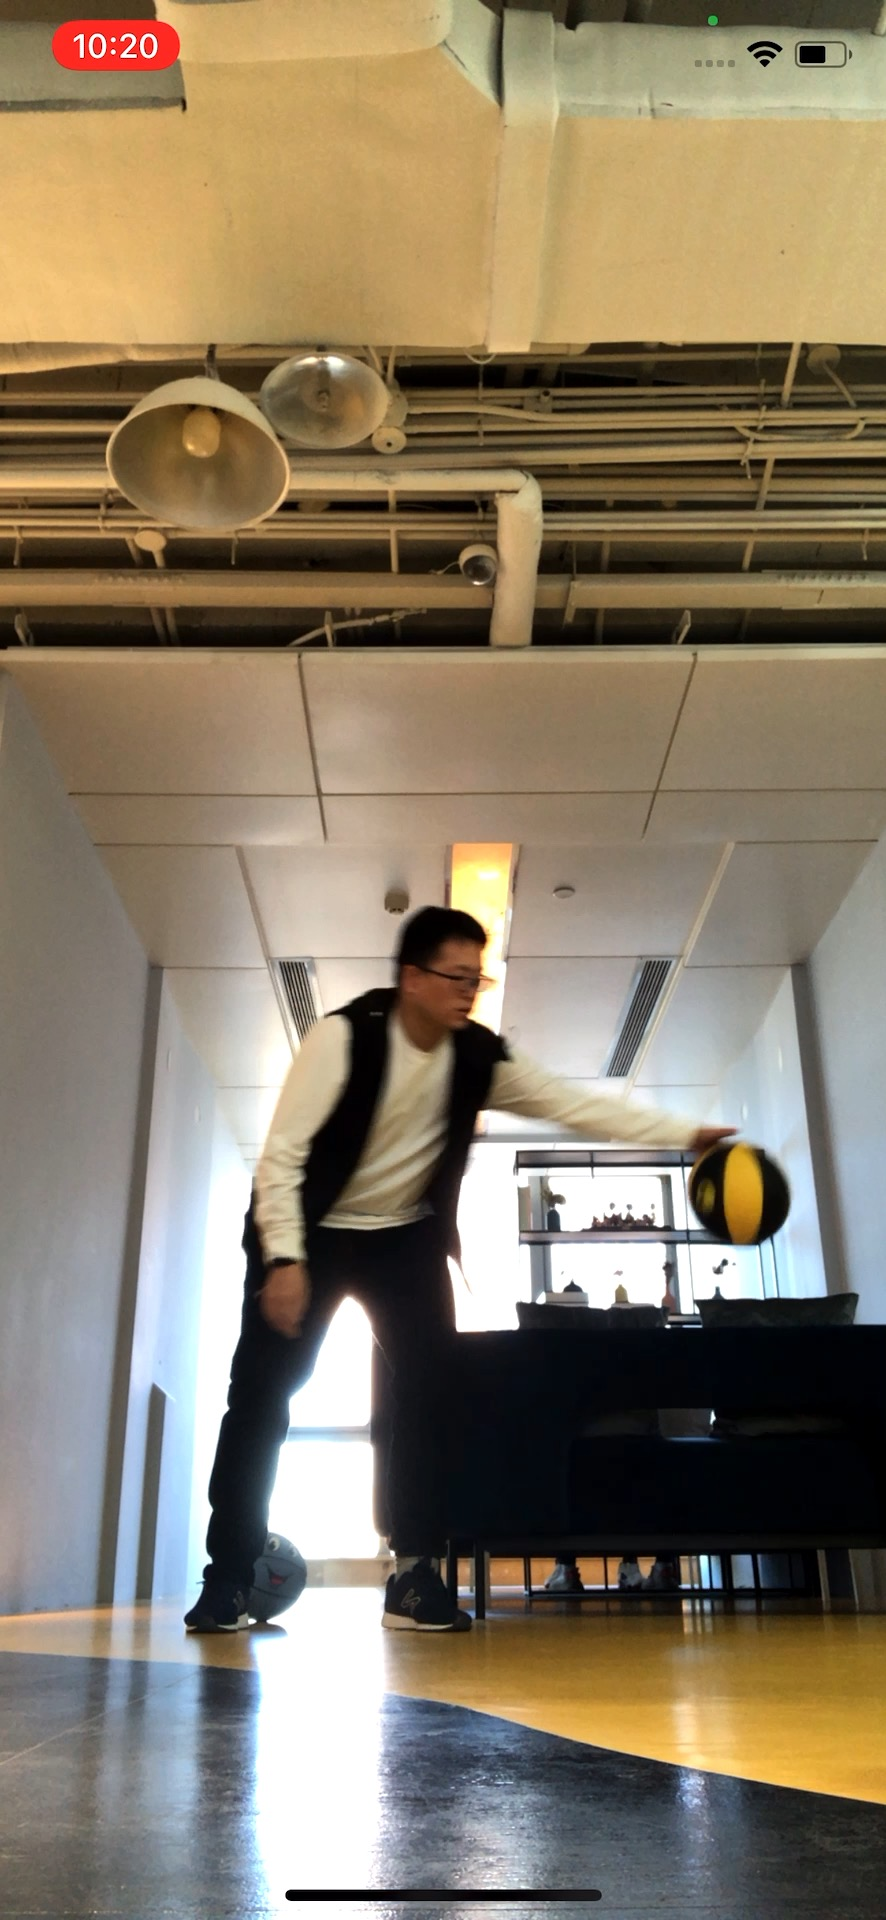ball: (687, 1139, 794, 1247), (239, 1536, 306, 1621)
